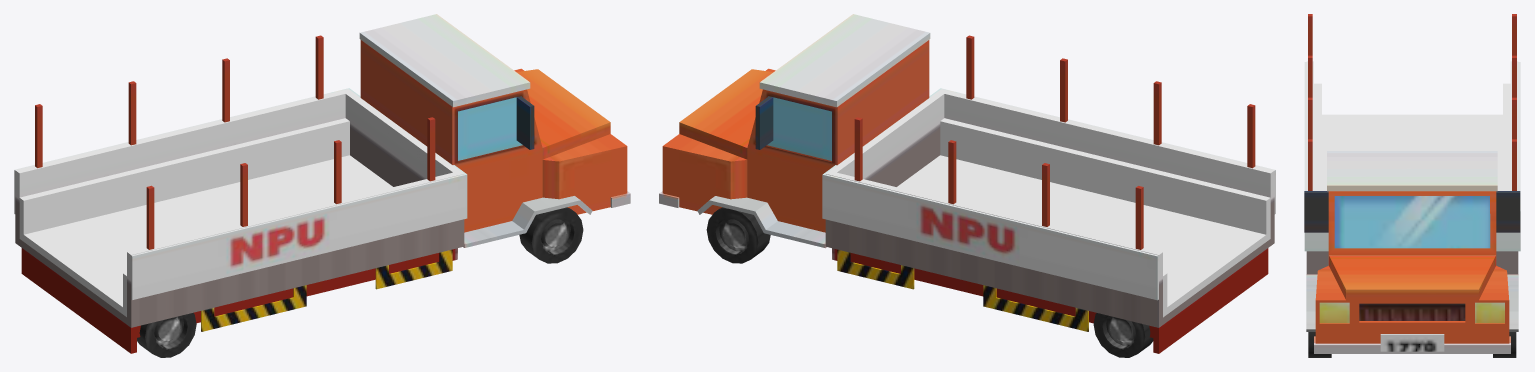
The model's file is truck.fbx.
3 renders of one model, left to right at view 1: azimuth 30°, elevation 25°; view 2: azimuth 150°, elevation 25°; view 3: azimuth 270°, elevation 25°, orthographic. The views are drawn at different scales.
Parts seen in each view (by area): view 1: truck_03.003, truck_03.001, truck_03.004, truck_03.002; view 2: truck_03.003, truck_03.001, truck_03.004, truck_03.002; view 3: truck_03.001, truck_03.003, truck_03.004.
Part boxes in pixels (x1,y1,x2,y2): truck_03.003: (14,35,592,353); truck_03.001: (359,14,630,232); truck_03.004: (519,207,583,263); truck_03.002: (137,312,196,357); truck_03.003: (697,35,1275,353); truck_03.001: (659,14,930,232); truck_03.004: (706,207,770,263); truck_03.002: (1093,313,1153,357); truck_03.001: (1304,151,1520,353); truck_03.003: (1304,14,1520,331); truck_03.004: (1308,332,1516,357).
Bounding box in the file's own units: 179 × 59.93 × 72.33.
